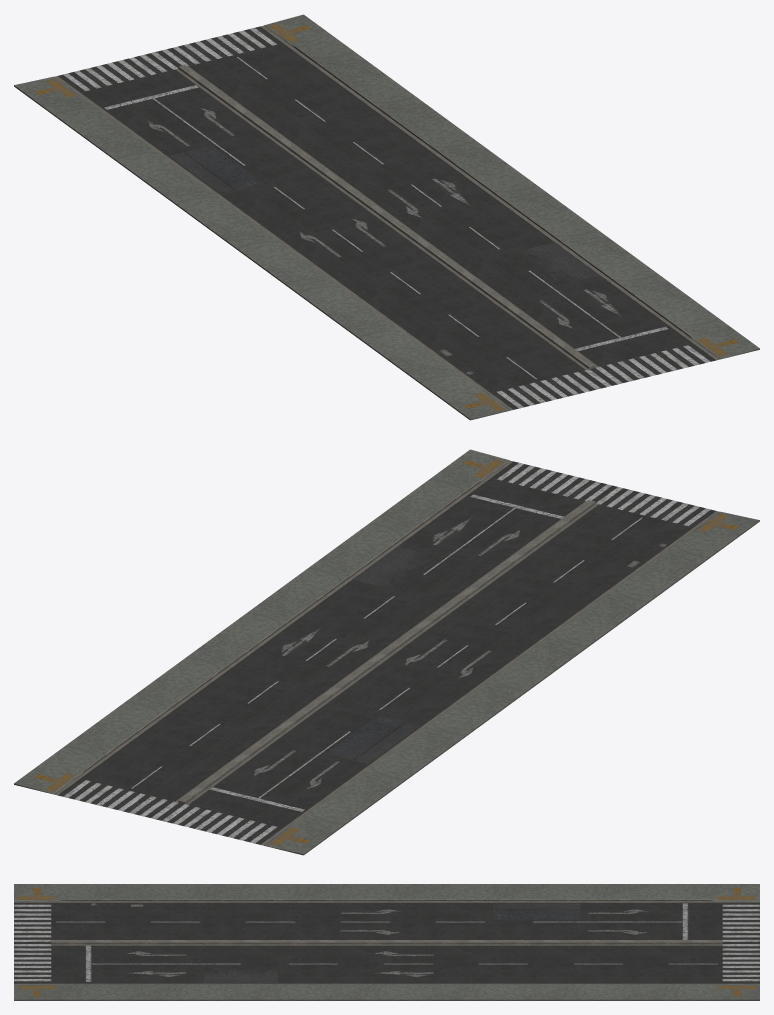
File: jctlowRoad22mA_c.fbx
3 views of the same model, one above another, from view 1: azimuth 30°, elevation 25°; view 2: azimuth 150°, elevation 25°; view 3: azimuth 270°, elevation 25° (orthographic). The views are drawn at different scales.
Parts seen in each view (by area): view 1: jctlowRoad22mA_c; view 2: jctlowRoad22mA_c; view 3: jctlowRoad22mA_c.
Part boxes in pixels (x1,y1,x2,y2): jctlowRoad22mA_c: (14,14,759,420); jctlowRoad22mA_c: (14,449,759,855); jctlowRoad22mA_c: (14,884,759,1000).
Bounding box in the file's own units: 2200 × 15 × 6000.
Materials: 4 (4 with a texture image).
